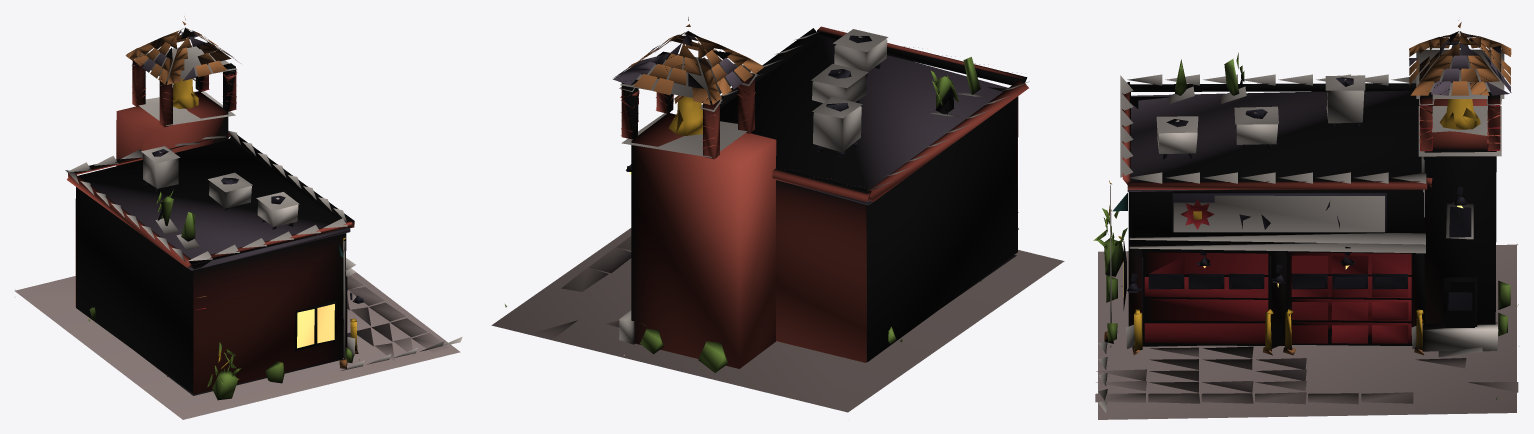
3 views of the same model, side by side, from view 1: azimuth 30°, elevation 25°; view 2: azimuth 150°, elevation 25°; view 3: azimuth 270°, elevation 25° (orthographic). The views are drawn at different scales.
Bounding box in the file's own units: 11.66 × 10.47 × 12.34.
